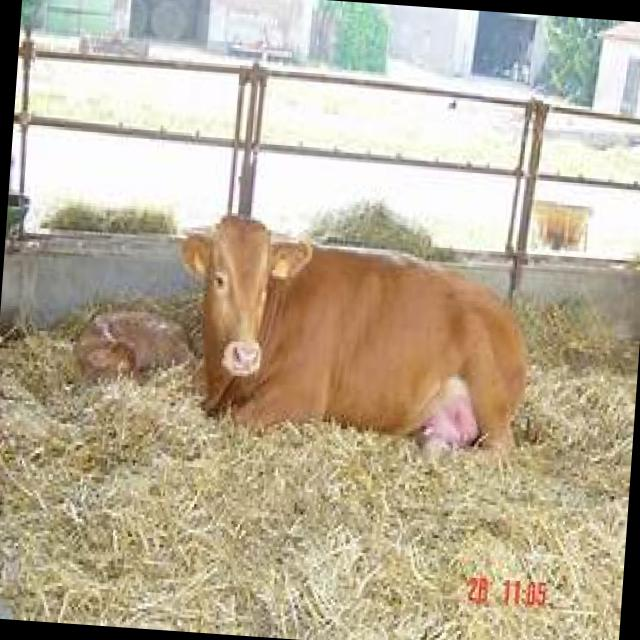animal: (168, 202, 538, 472)
